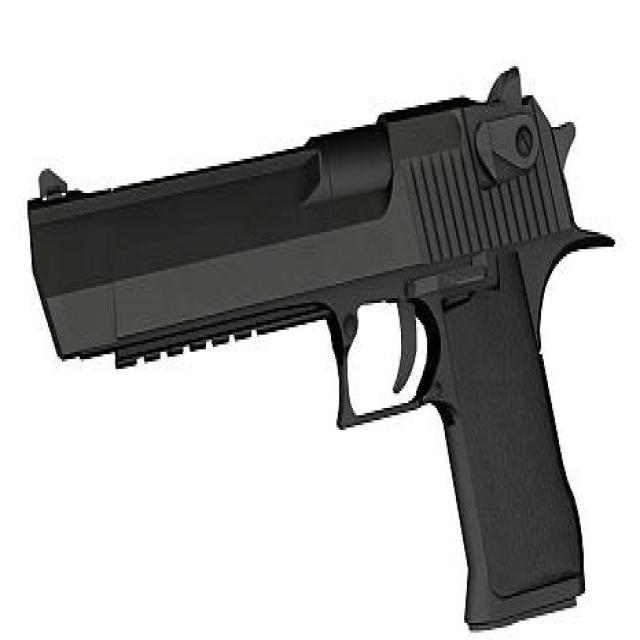pistol: (25, 60, 623, 635)
